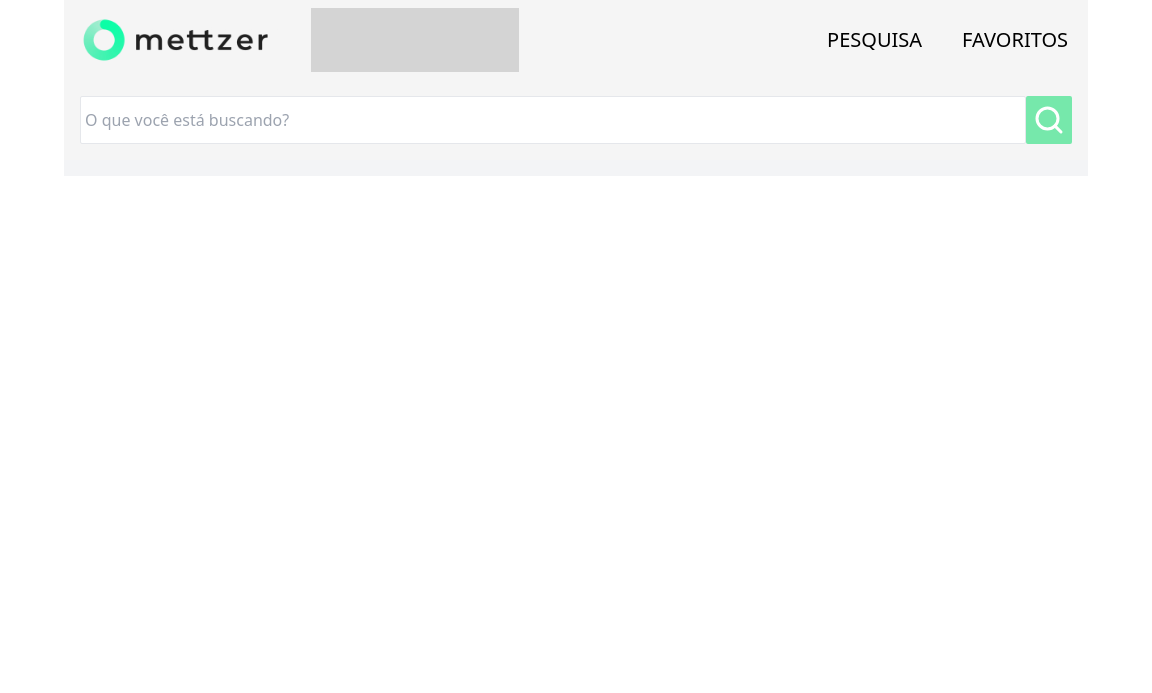
Test Home › should display the results when click the search button
Click the button with test id "searchButton".
click(1049, 120)  # box 1026,96 -> 1072,144
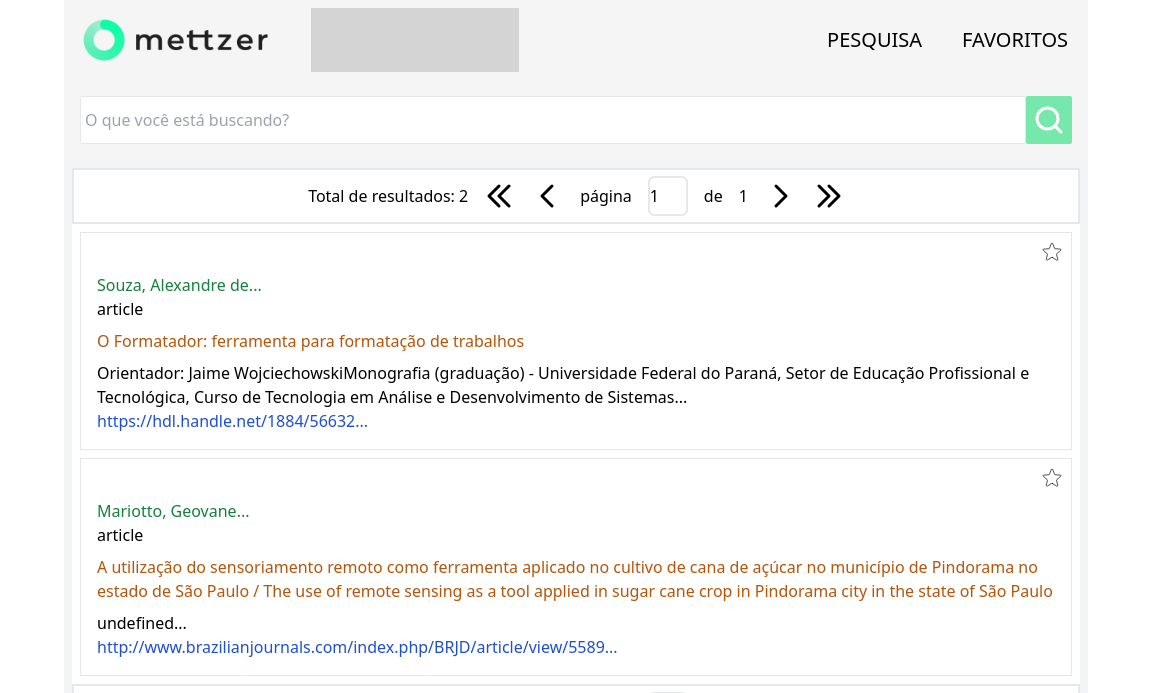
Check: the text with test id "title-" reads "O Formatador: ferramenta para formatação de trabalhos", box 97,330 -> 524,352
Check: the text with test id "title-" shows "A utilização do sensoriamento remoto como ferramenta aplicado no cultivo de cana de açúcar no município de Pindorama no estado de São Paulo / The use of remote", box 97,556 -> 1053,602
Check: the text with test id "authors-" reads "Souza, Alexandre de...", box 97,274 -> 262,296
